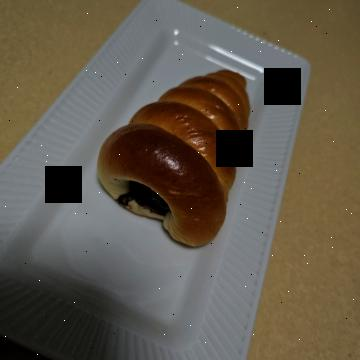cream horn: (43, 86, 260, 287)
